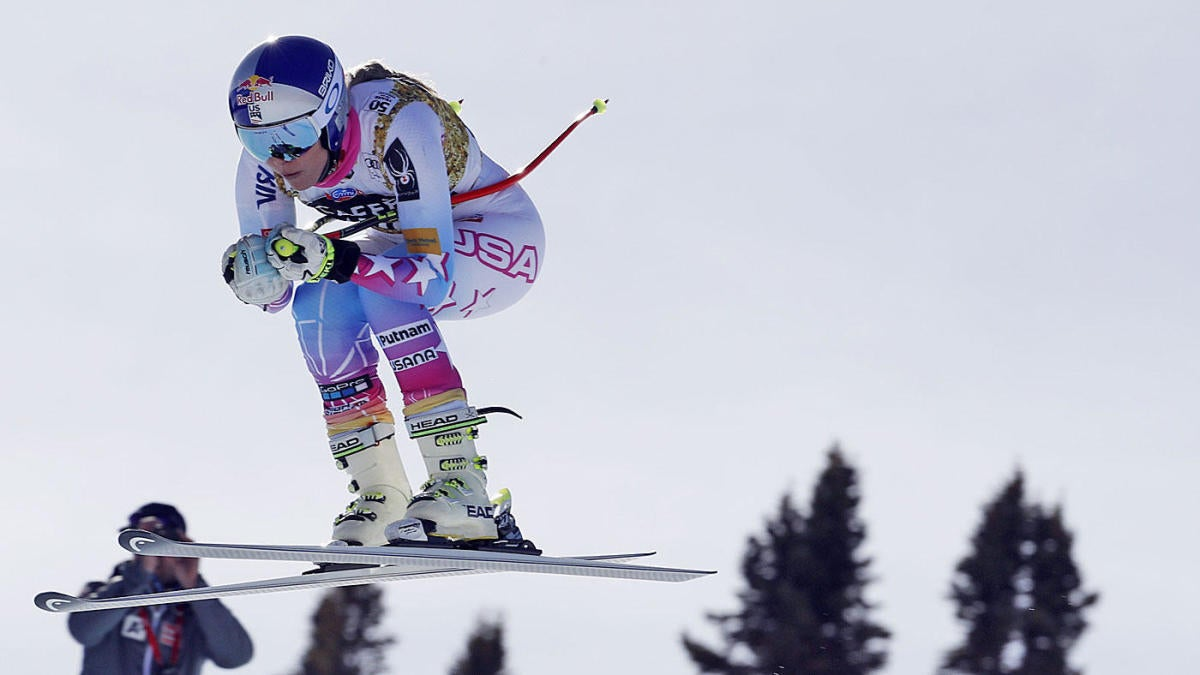skier: (33, 32, 729, 617)
